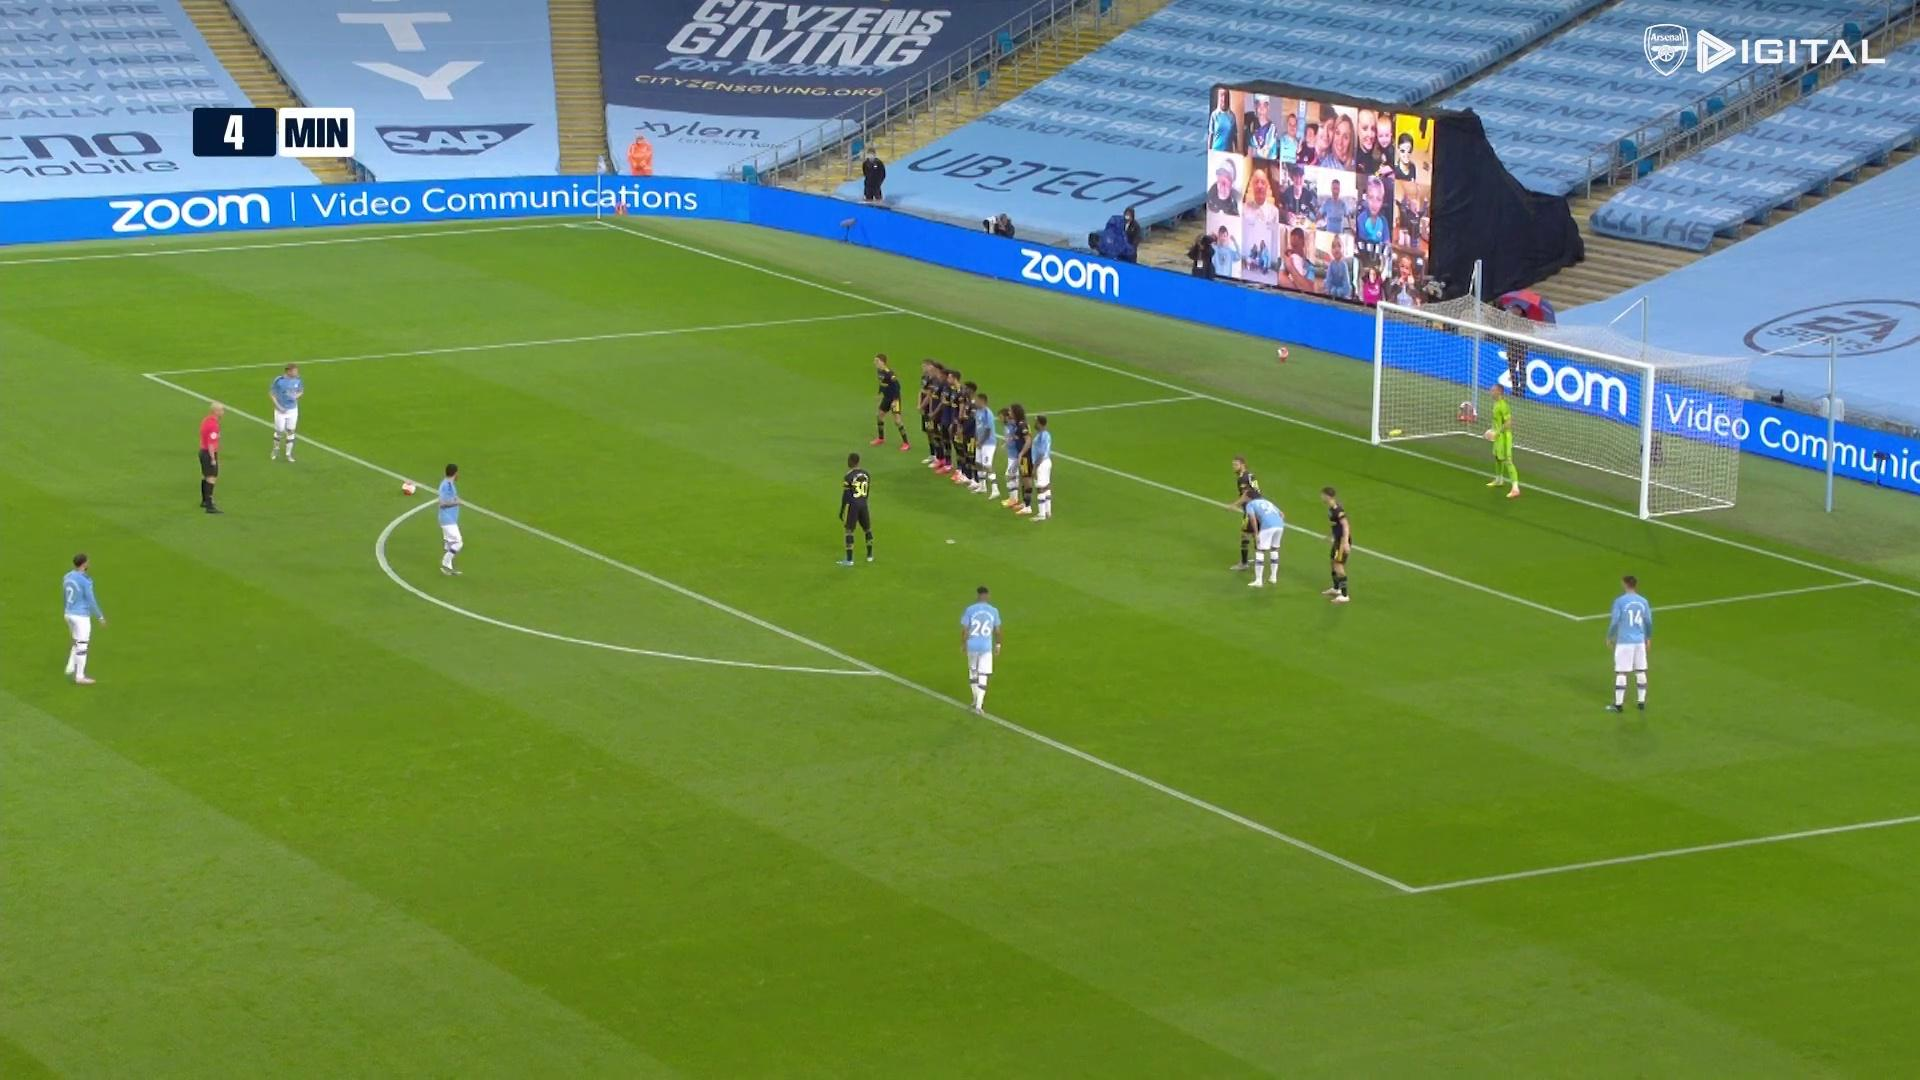ball: (1273, 340, 1297, 362), (400, 480, 418, 498)
goalkeeper: (1472, 384, 1527, 501)
player: (1600, 571, 1668, 723), (57, 552, 110, 693), (956, 582, 1007, 723), (1232, 477, 1292, 592), (1316, 479, 1362, 606), (834, 449, 882, 569), (434, 461, 479, 584), (865, 350, 915, 454), (1228, 454, 1270, 570), (265, 362, 309, 468), (972, 389, 1001, 503), (1028, 414, 1055, 524), (1008, 403, 1034, 515), (937, 369, 961, 481), (919, 359, 938, 493), (929, 362, 951, 476), (998, 407, 1021, 508), (948, 369, 967, 484), (963, 381, 980, 497)
referee: (192, 399, 227, 523)
